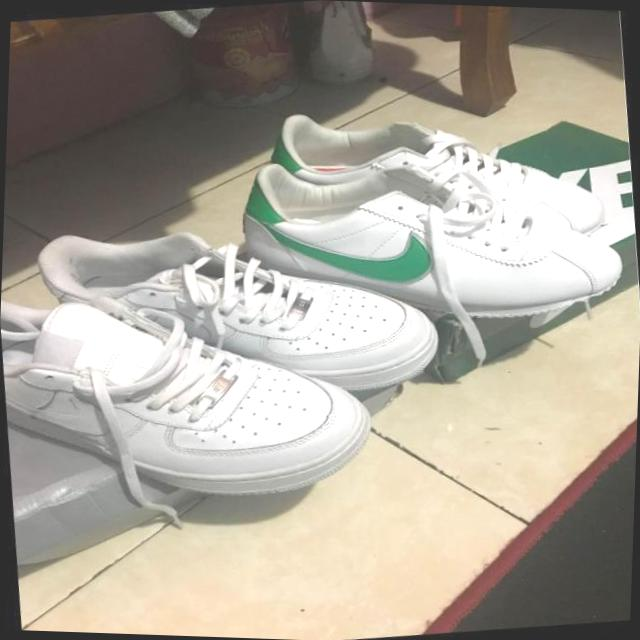nike_fake_airforce: (8, 185, 459, 428), (0, 260, 385, 525)
